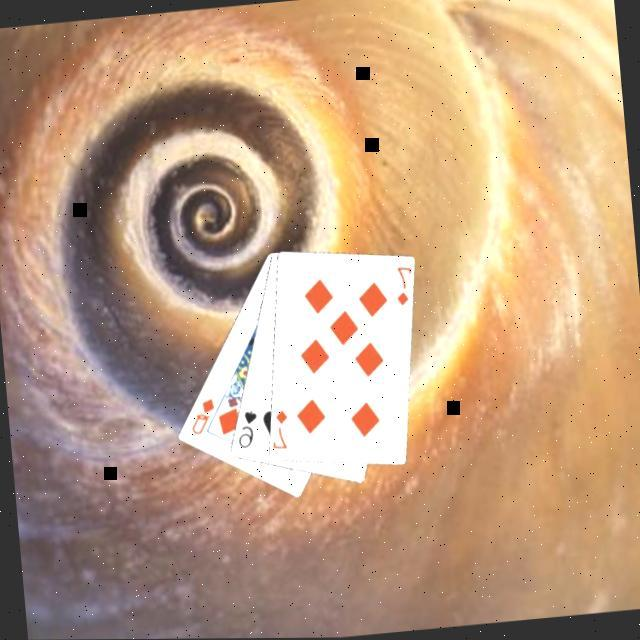7D: (266, 408, 291, 454), (388, 264, 412, 310)
9S: (230, 407, 260, 453)
QD: (182, 396, 218, 439)
